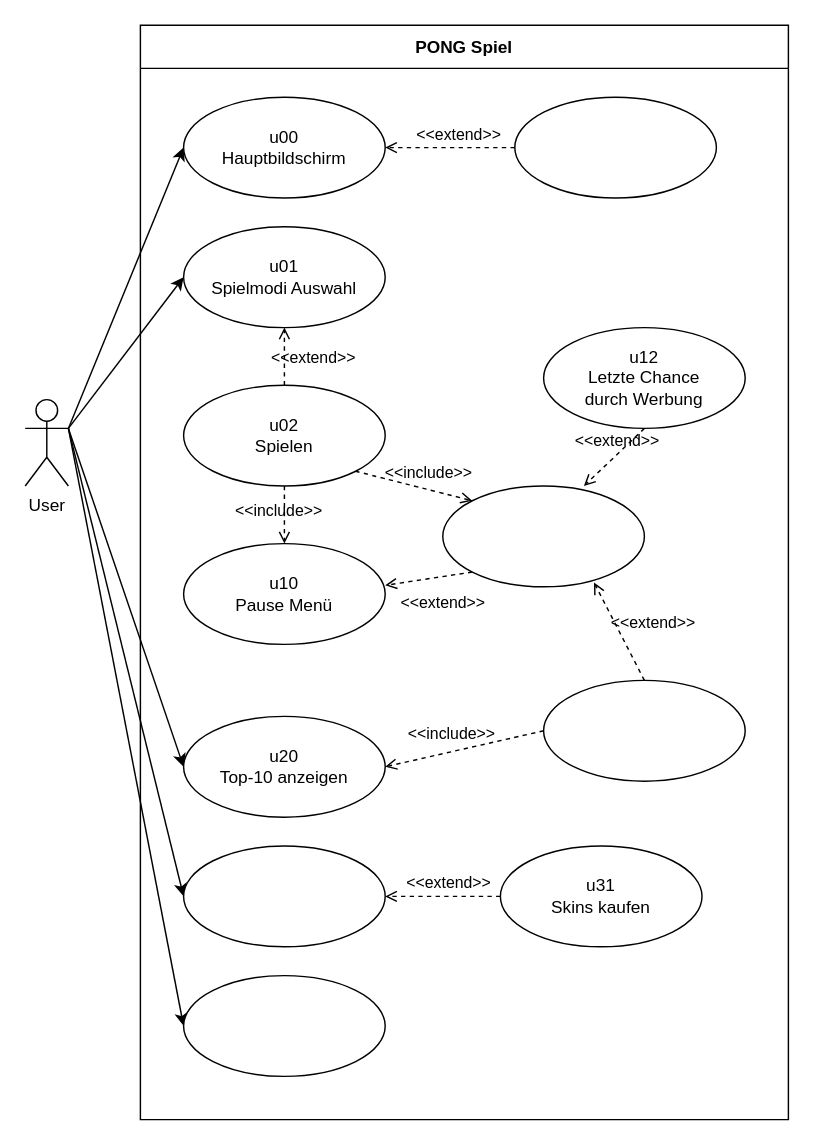
Image size: 814x1145. Some labels were removed from this diagram. Each missing label, with the box of its shape:
u09 Sprache ändern: (513, 96, 716, 198)
u11 Game Over Menü: (441, 485, 644, 587)
u13 Name eingeben: (542, 679, 745, 781)
u30 Skins anpassen: (182, 845, 385, 947)
u40 Credits lesen: (182, 974, 385, 1076)
